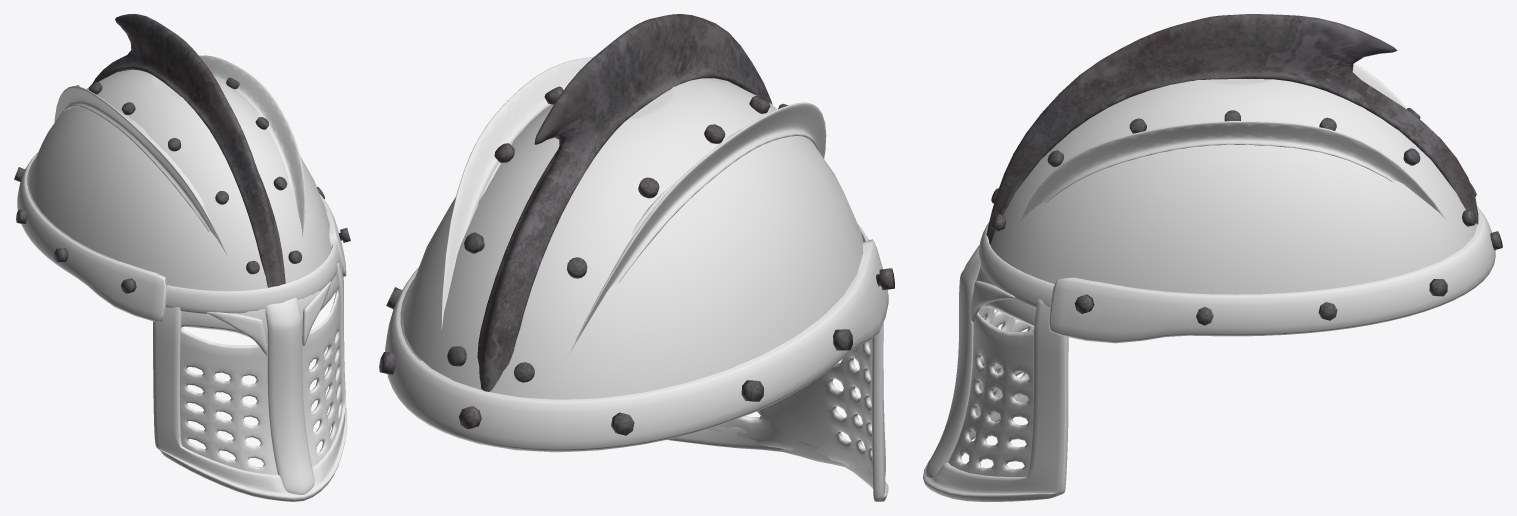
File: Helmetfreeasset.fbx
3 views of the same model, side by side, from view 1: azimuth 30°, elevation 25°; view 2: azimuth 150°, elevation 25°; view 3: azimuth 270°, elevation 25° (orthographic). The views are drawn at different scales.
Visible parts, largest first — view 1: Sphere.003, Sphere.007, Sphere.004, Sphere.010, NurbsPath, Sphere.006, Sphere.011, Sphere.005, Cylinder.006, Plane.018; view 2: Sphere.003, Sphere.006, Sphere.004, NurbsPath, Sphere.007, Cylinder.006, Sphere.010; view 3: Sphere.003, Sphere.004, Sphere.006, Sphere.007, NurbsPath, Sphere.010, Sphere.011, Cylinder.006, Sphere.005, Plane.018.
Boxes of the visible parts, box(x1,y1,x2,y2) form: Sphere.003: box(29, 69, 331, 291); Sphere.007: box(180, 274, 342, 474); Sphere.004: box(92, 14, 285, 287); Sphere.010: box(153, 262, 347, 501); NurbsPath: box(54, 55, 305, 256); Sphere.006: box(17, 153, 346, 321); Sphere.011: box(265, 298, 314, 494); Sphere.005: box(165, 244, 339, 313); Cylinder.006: box(14, 77, 350, 293); Plane.018: box(206, 281, 331, 355); Sphere.003: box(403, 78, 863, 452); Sphere.006: box(385, 239, 888, 451); Sphere.004: box(477, 14, 772, 391); NurbsPath: box(441, 56, 826, 359); Sphere.007: box(708, 339, 872, 472); Cylinder.006: box(379, 86, 894, 435); Sphere.010: box(667, 322, 888, 501); Sphere.003: box(990, 79, 1477, 294); Sphere.004: box(986, 14, 1478, 244); Sphere.006: box(1048, 206, 1495, 343); Sphere.007: box(948, 266, 1036, 476); NurbsPath: box(1021, 63, 1447, 221); Sphere.010: box(923, 299, 1068, 501); Sphere.011: box(925, 245, 980, 477); Cylinder.006: box(991, 107, 1502, 325); Sphere.005: box(978, 222, 1054, 307); Plane.018: box(970, 281, 1014, 323).
Bounding box in the file's own units: 19.44 × 26.3 × 29.5.
9 materials, 1 textured.
